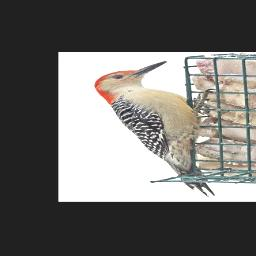Woodpecker: (94, 58, 216, 198)
